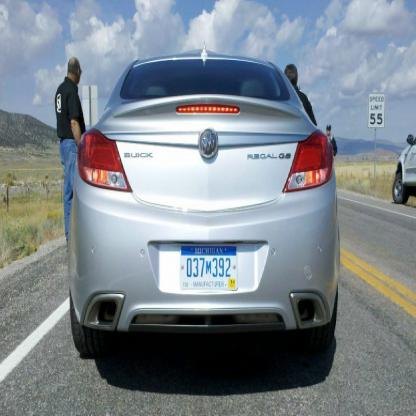Vehicle: (66, 52, 339, 360)
